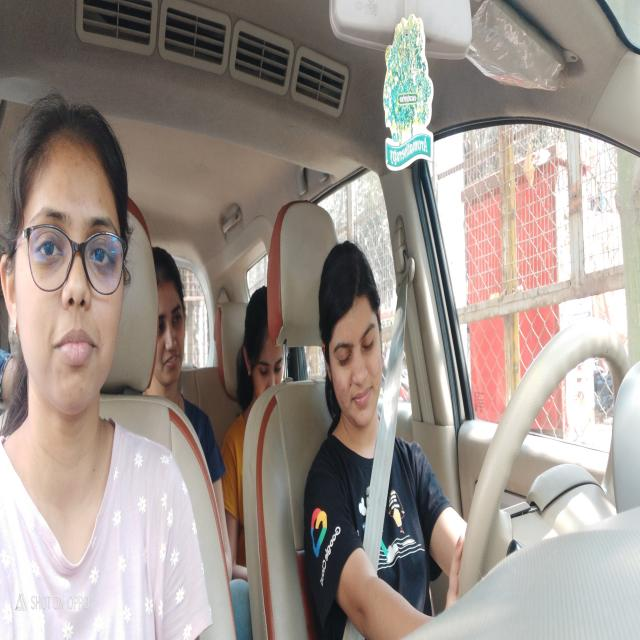drowsy: (320, 257, 388, 433)
person: (7, 108, 126, 420), (241, 293, 287, 395), (158, 246, 189, 383)
